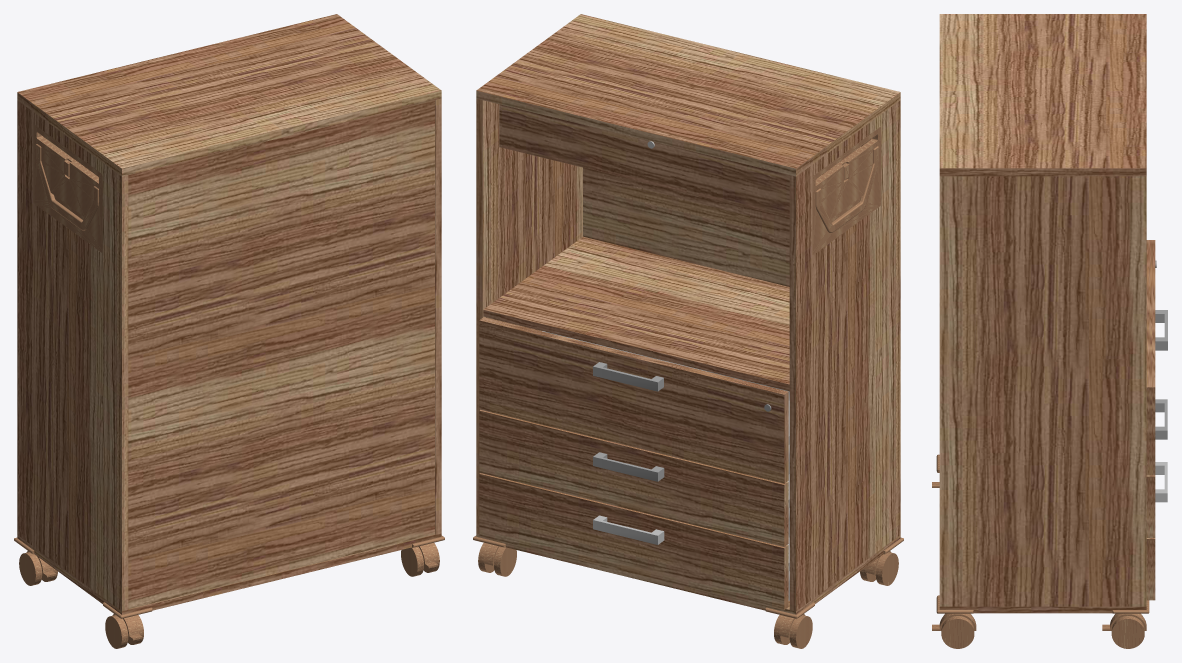
Rendered from personal_cabinet_79_4_drawers_bracketfinala.fbx.
3 views of the same model, side by side, from view 1: azimuth 30°, elevation 25°; view 2: azimuth 150°, elevation 25°; view 3: azimuth 270°, elevation 25° (orthographic).
Visible parts, largest first — view 1: drewno_mesh4, plastic_mesh; view 2: drewno_mesh4, drewno_mesh3, drewno_mesh, drewno_mesh1, drewno_mesh2, plastic_mesh, metal2_mesh1, metal2_mesh, metal2_mesh2; view 3: drewno_mesh4, plastic_mesh, drewno_mesh3, drewno_mesh, drewno_mesh1, metal2_mesh, metal2_mesh2, metal2_mesh1.
Part boxes in pixels (box(x1,y1,x2,y2)): drewno_mesh4: box(17, 14, 441, 614); plastic_mesh: box(14, 124, 444, 648); drewno_mesh4: box(476, 14, 900, 614); drewno_mesh3: box(479, 317, 788, 483); drewno_mesh: box(479, 409, 788, 546); drewno_mesh1: box(479, 473, 788, 609); drewno_mesh2: box(499, 104, 789, 217); plastic_mesh: box(473, 127, 903, 648); metal2_mesh1: box(593, 515, 664, 544); metal2_mesh: box(593, 452, 664, 481); metal2_mesh2: box(593, 362, 663, 391); drewno_mesh4: box(939, 14, 1146, 613); plastic_mesh: box(932, 454, 1149, 648); drewno_mesh3: box(1146, 240, 1155, 475); drewno_mesh: box(1146, 475, 1155, 537); drewno_mesh1: box(1146, 538, 1155, 600); metal2_mesh: box(1155, 399, 1167, 439); metal2_mesh2: box(1155, 310, 1167, 350); metal2_mesh1: box(1155, 462, 1167, 502).
Size of the model in its own units: 80.6 by 115 by 51.2.
